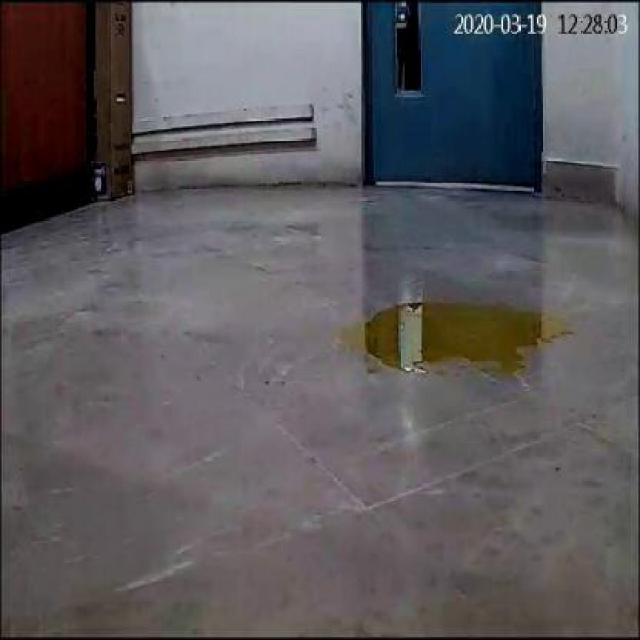spill: (344, 298, 568, 378)
